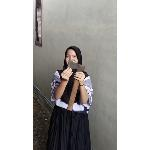Kapak: (63, 57, 90, 111)
